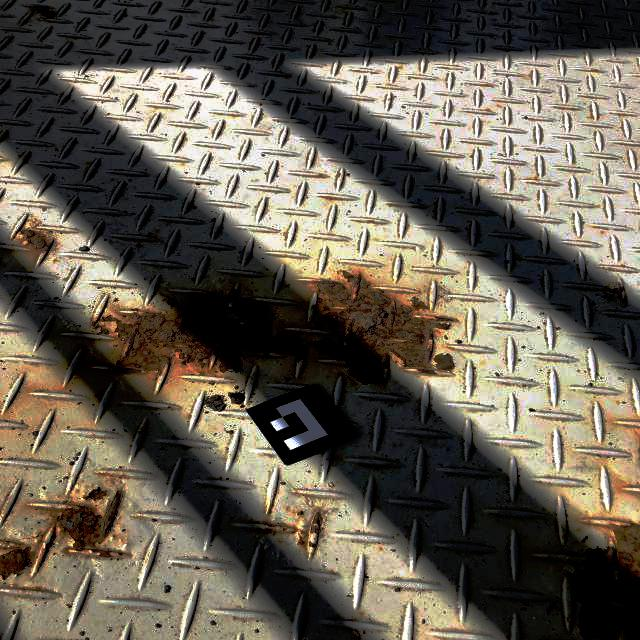Corrosion: (90, 287, 309, 377), (300, 267, 454, 387), (0, 489, 129, 582), (562, 518, 640, 640), (14, 220, 55, 254), (600, 281, 626, 305), (258, 520, 297, 535), (432, 352, 457, 373), (82, 484, 110, 502), (12, 526, 42, 541), (29, 5, 60, 19), (97, 473, 130, 485), (310, 509, 324, 536), (0, 493, 11, 516), (296, 529, 308, 546), (561, 513, 569, 538), (31, 506, 60, 511), (12, 588, 45, 592), (308, 539, 317, 548), (580, 535, 589, 544), (295, 510, 305, 517), (332, 452, 339, 460), (137, 429, 145, 435), (516, 254, 522, 261), (338, 173, 341, 179), (166, 406, 172, 409), (591, 69, 599, 71), (318, 174, 323, 177), (367, 220, 374, 222), (329, 197, 333, 200), (607, 267, 613, 269), (434, 202, 437, 205)
